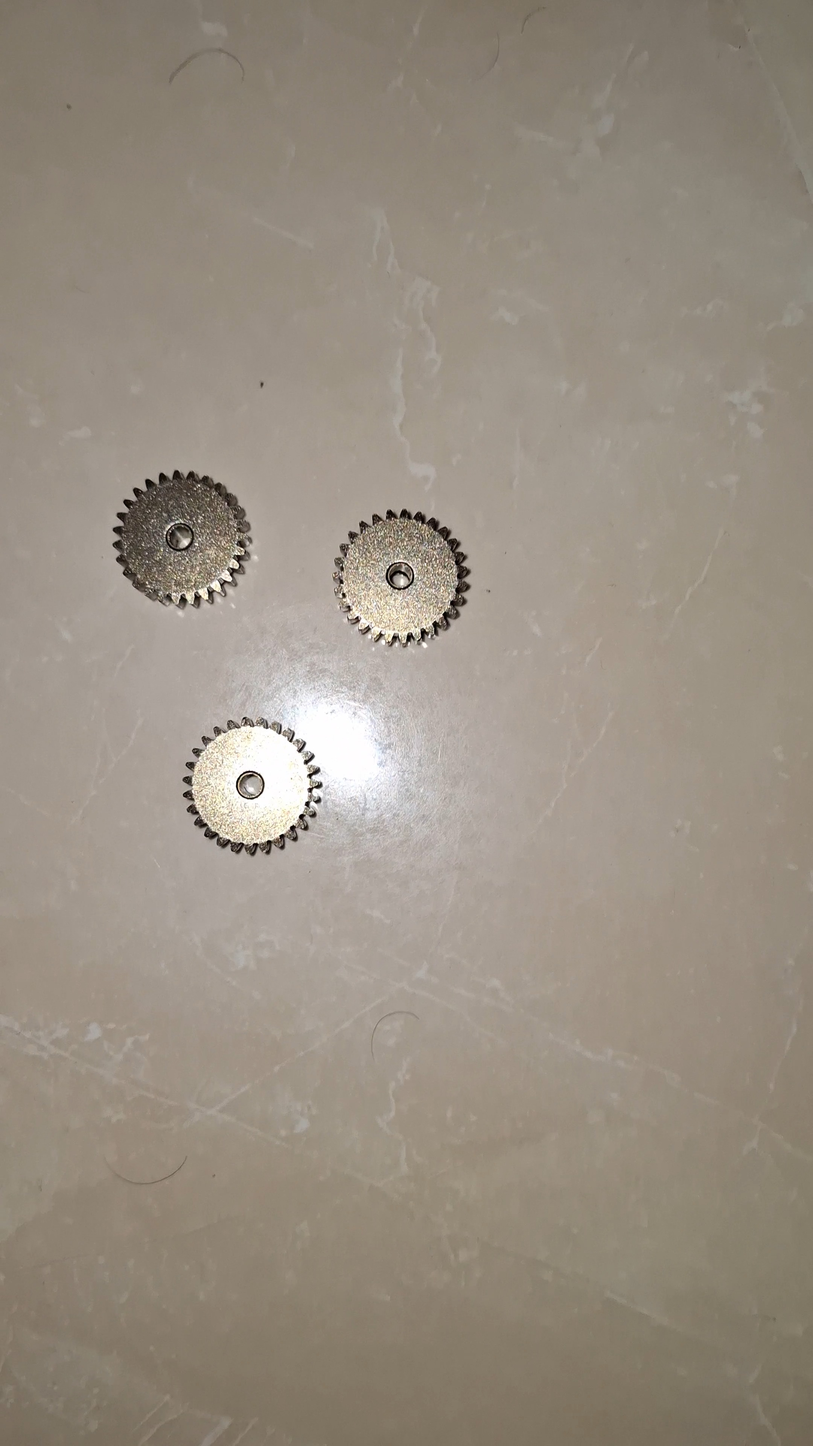spur gear: (184, 717, 321, 854), (114, 471, 250, 606), (334, 509, 468, 644)
